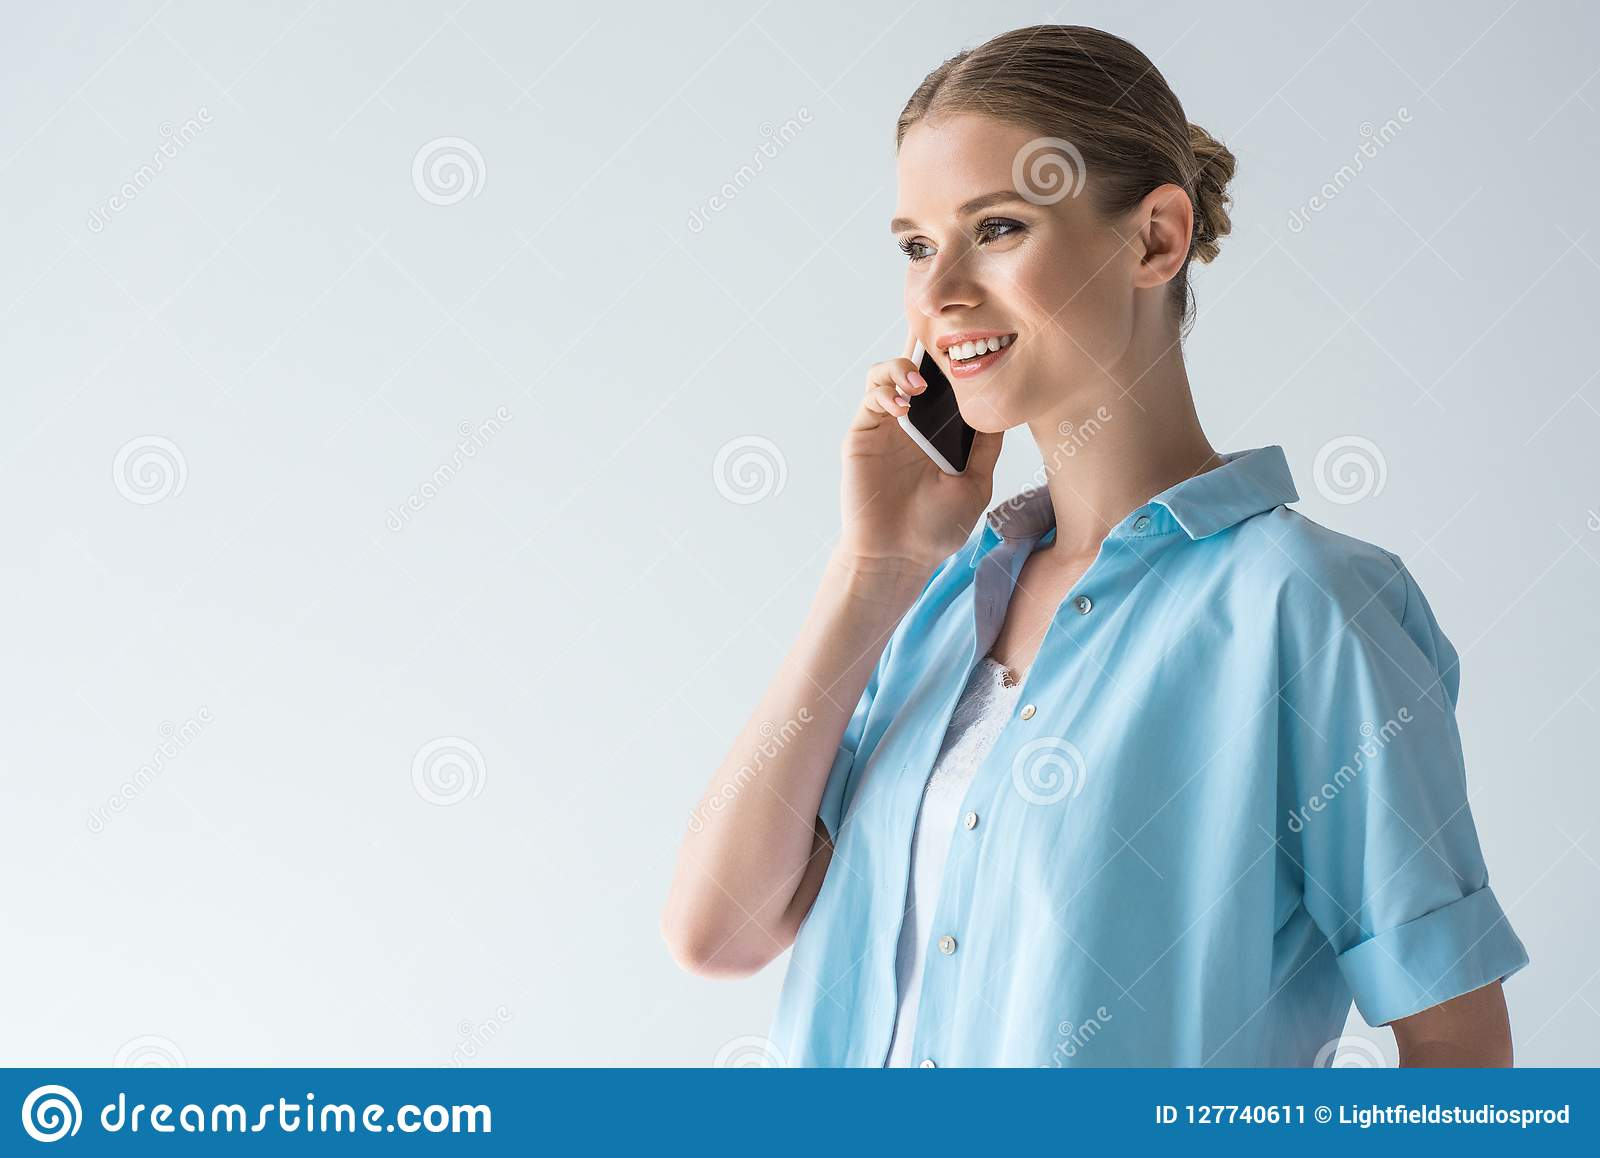talk: (841, 198, 1071, 613)
